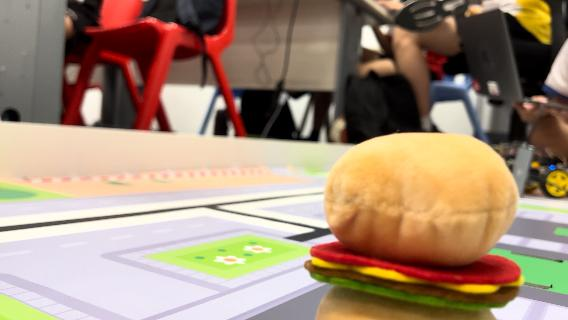burger: (306, 132, 526, 320)
